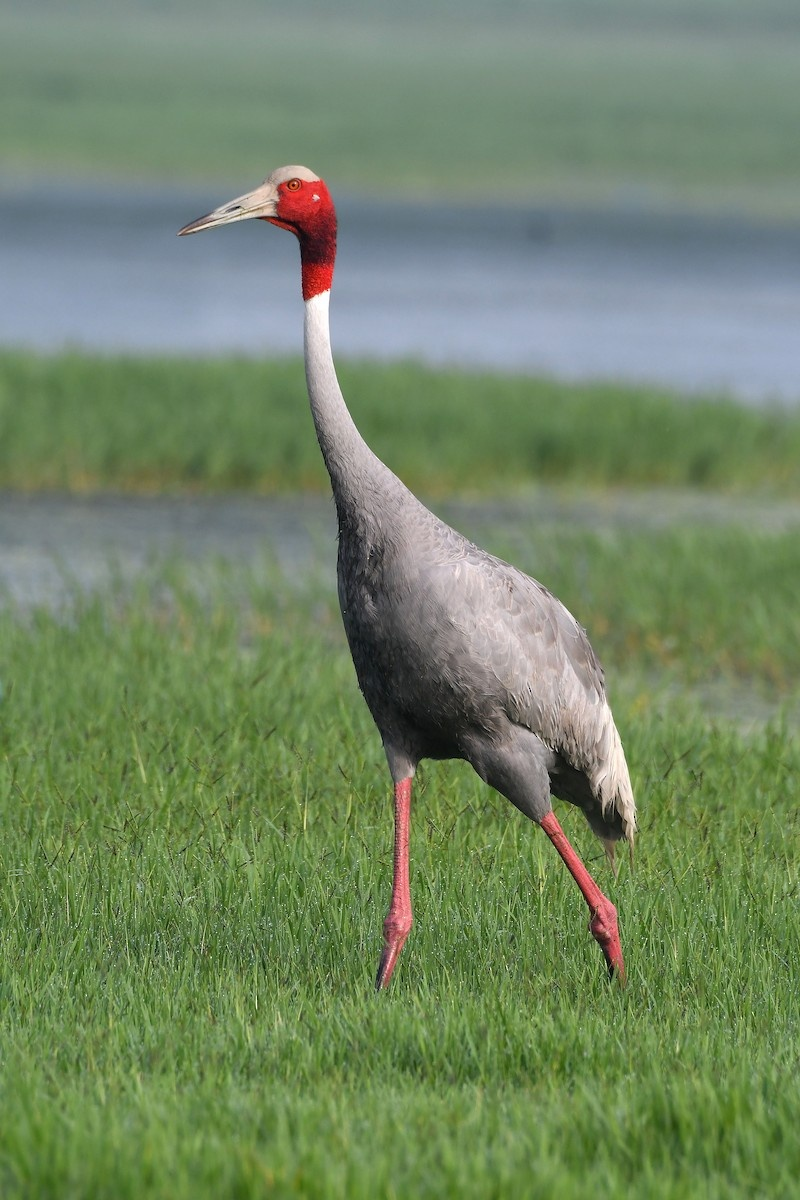crane: (180, 164, 683, 1033)
